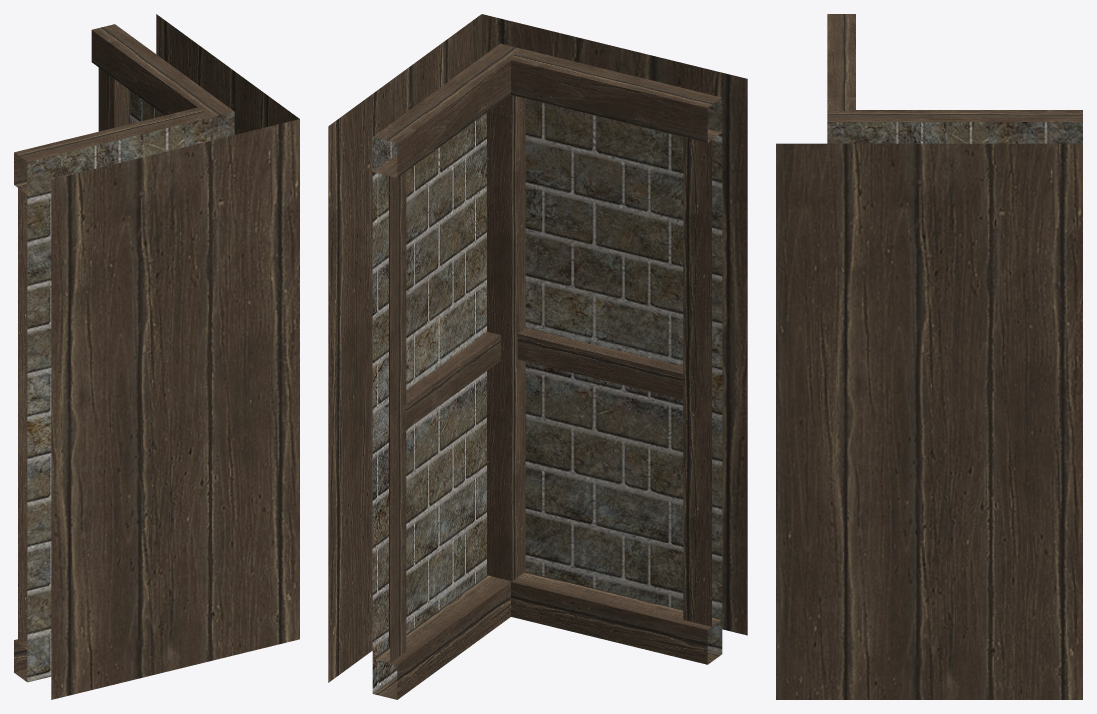
File: ARC1010228.fbx
The picture shows the model from 3 angles, left to right: view 1: azimuth 30°, elevation 25°; view 2: azimuth 150°, elevation 25°; view 3: azimuth 270°, elevation 25°; orthographic projection. The views are drawn at different scales.
Visible parts, largest first — view 1: smARC1010228; view 2: smARC1010228; view 3: smARC1010228.
Part boxes in pixels (x1,y1,x2,y2): smARC1010228: (14, 14, 299, 699); smARC1010228: (328, 14, 747, 699); smARC1010228: (776, 14, 1082, 699).
Bounding box in the file's own units: 134 × 268 × 134.
1 material, 1 textured.
